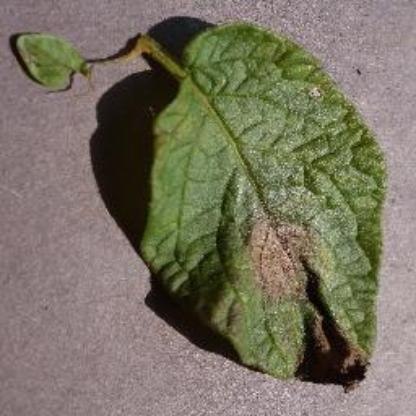Late-Blight: (11, 18, 392, 394)
